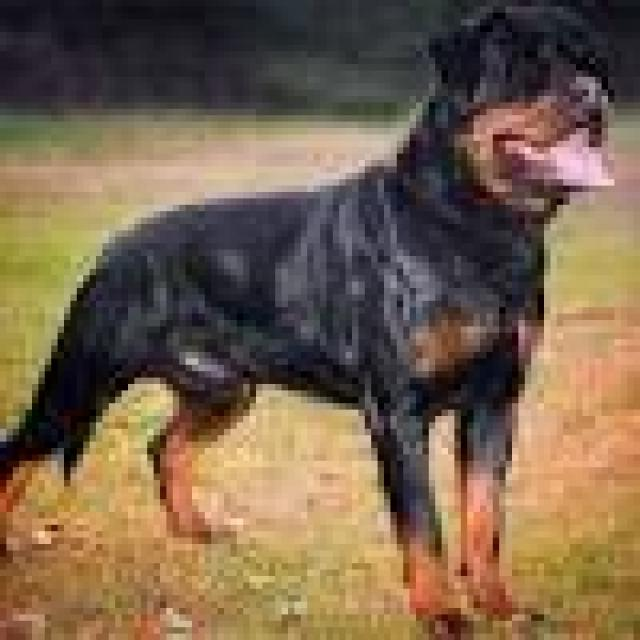Dog: (0, 2, 619, 640)
